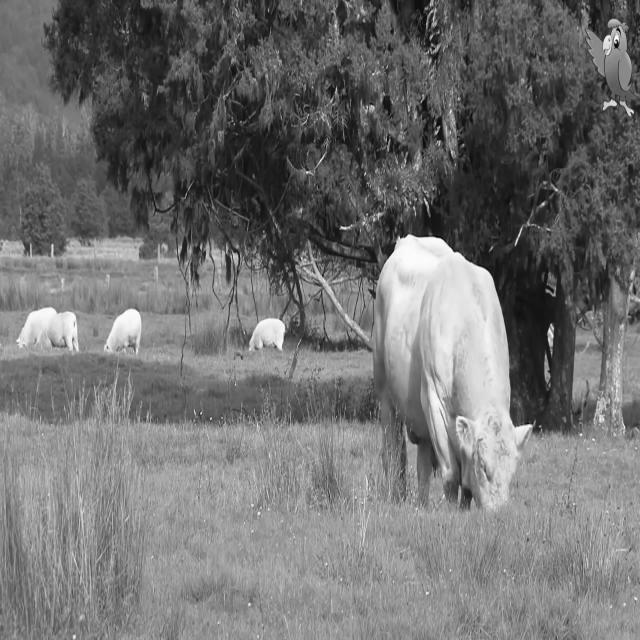cow: (374, 235, 531, 509)
